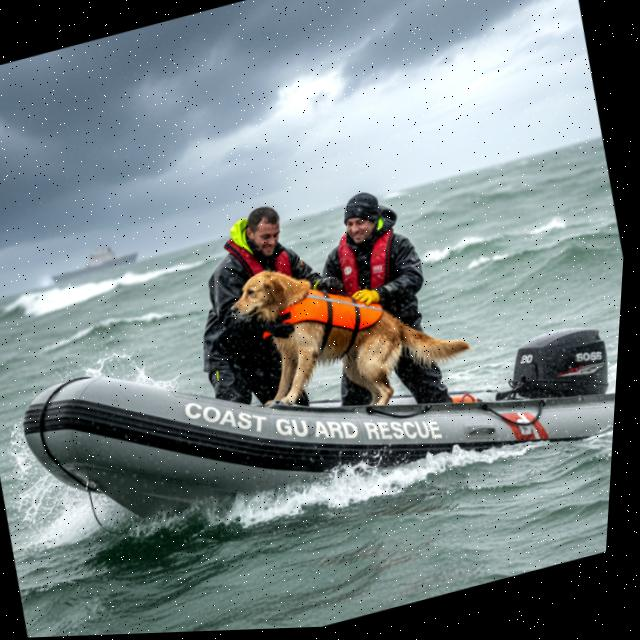dog: (212, 218, 486, 468)
rescuer: (294, 159, 484, 443), (165, 176, 366, 422)
